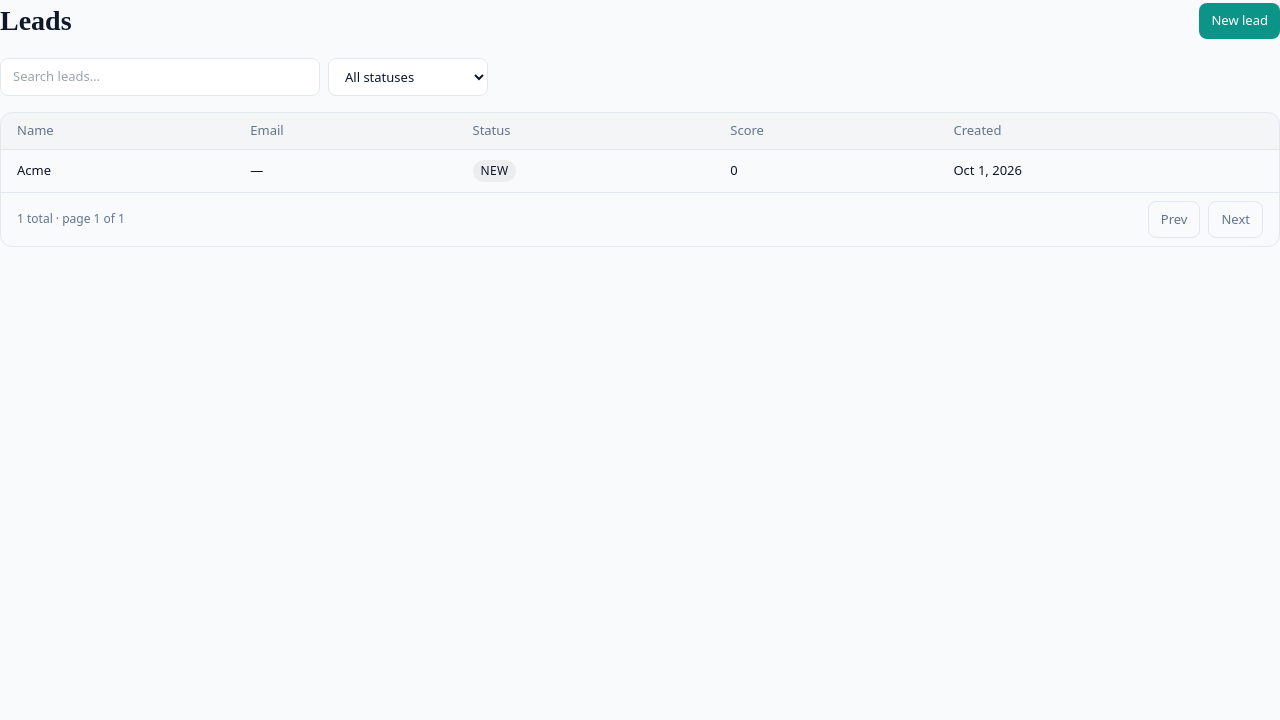
Scenario: Leads when the API answers 400 › create: shows the error and keeps the dialog open with the input
Expected: the cell "Acme" is shown, [1,149,234,192]
Step 1. Click the button "New lead" → (1240, 21), box [1200,3,1279,39]
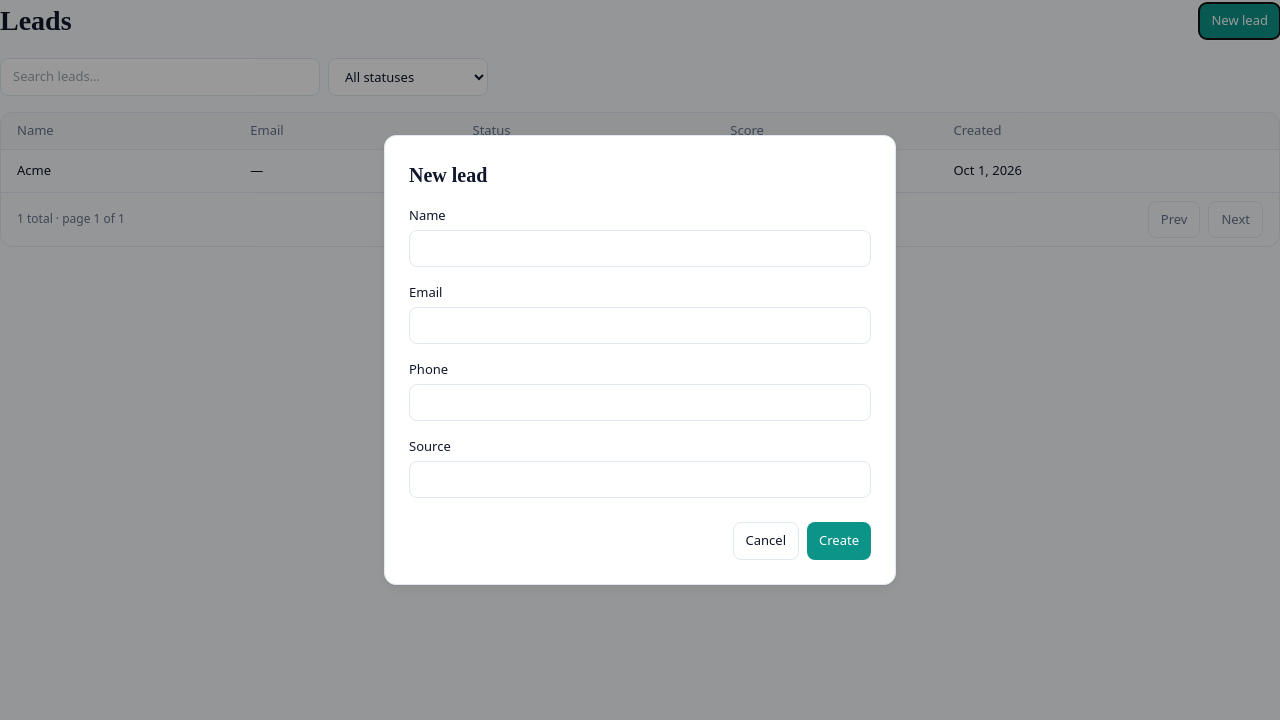
Step 2. Type "Brand new" into the field labelled "Name" → (640, 249), box [409,230,871,267]
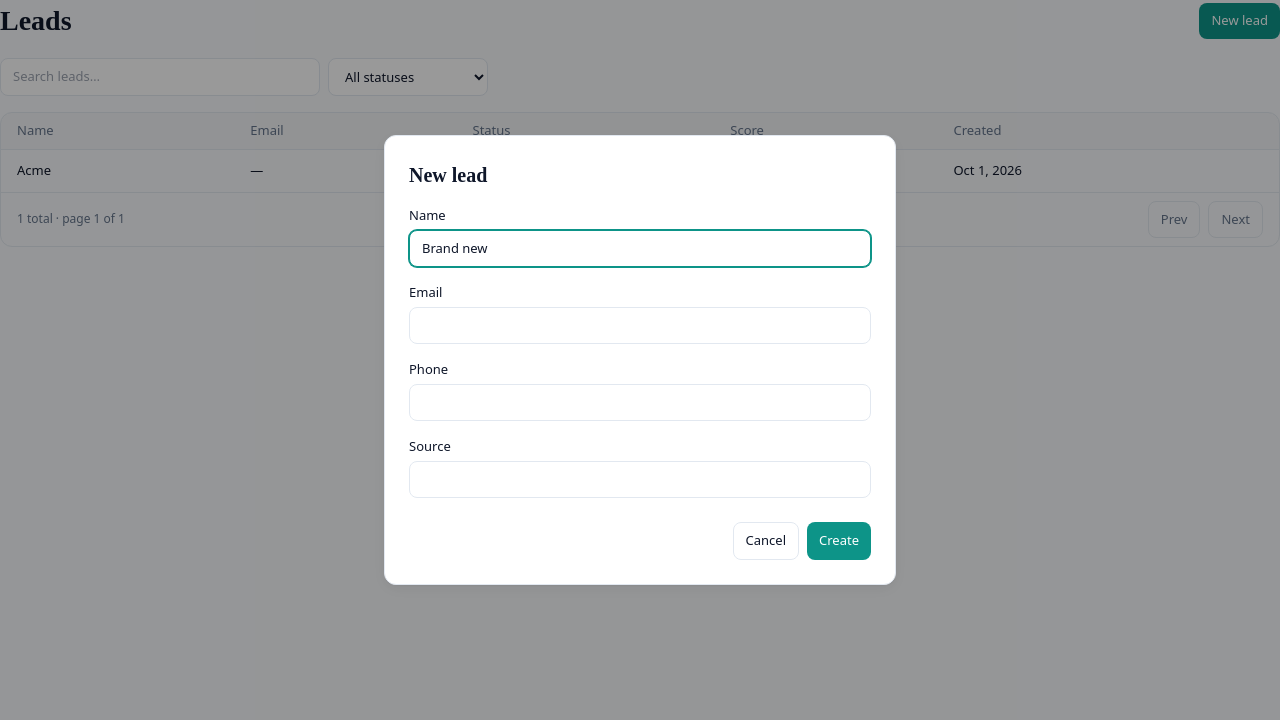
Step 3. Click the button "Create" → (839, 541), box [807,522,871,560]
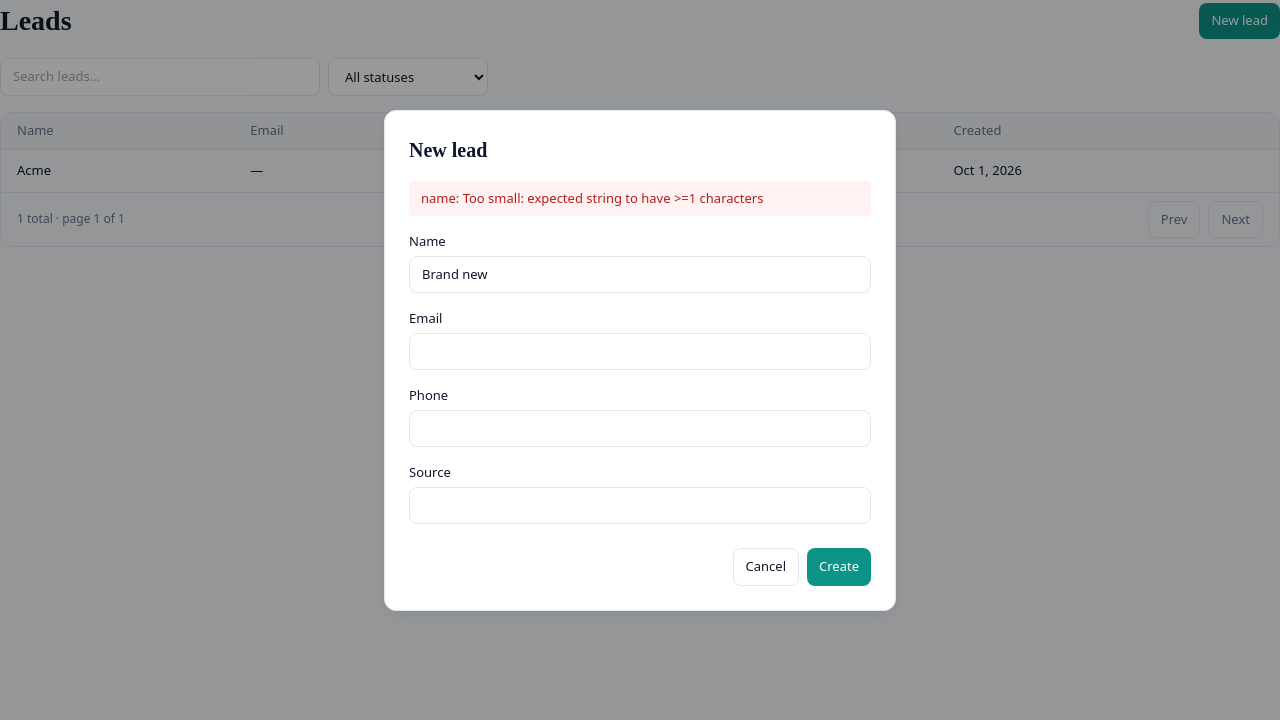
Expected: the message reads "name: Too small: expected string to have >=1 characters", [421,188,763,206]
